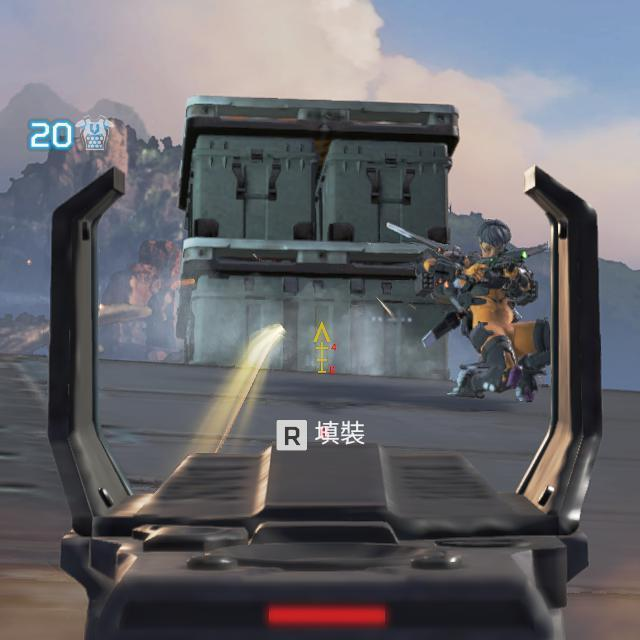avatar: (417, 219, 553, 403)
